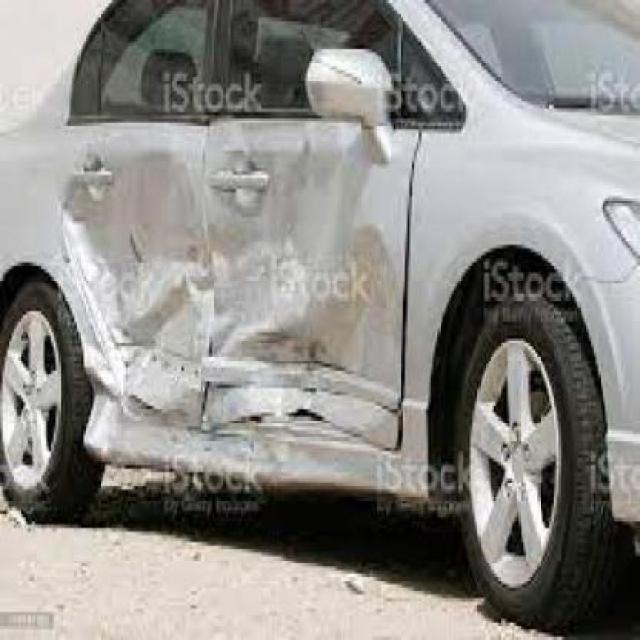doorouter-dent: (195, 115, 437, 493), (37, 113, 216, 456)
